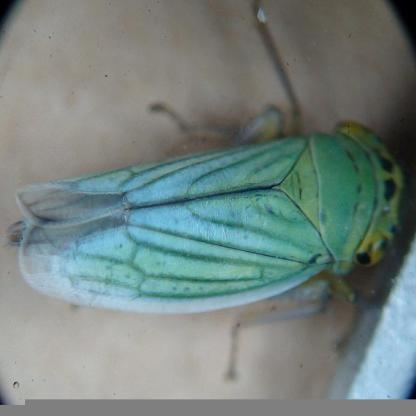Green-Leafhopper: (11, 0, 415, 382)
